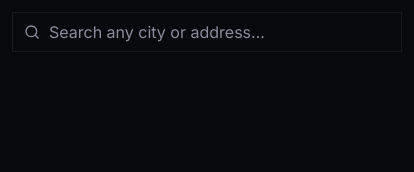
Scenario: LocationSearch › never selects an old place while a replacement query is loading
Later steps or results of the test are not shown.
In the dropdown: {"x": 207, "y": 32} top-left (12, 12), bottom-right (402, 52), type "berlin"
Wait 400 ms
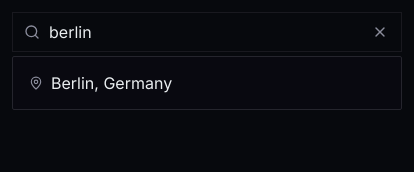
Expected: the option "Berlin, Germany" is shown, top-left (17, 61), bottom-right (397, 105)
Replace the text in the dropdown with "jakarta": {"x": 207, "y": 32} top-left (12, 12), bottom-right (402, 52)
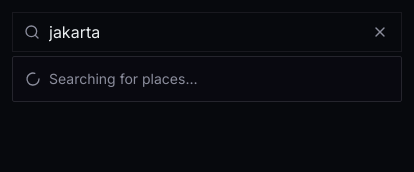
Expected: the option is gone
Expected: the message shows "Searching", top-left (49, 70), bottom-right (198, 87)
